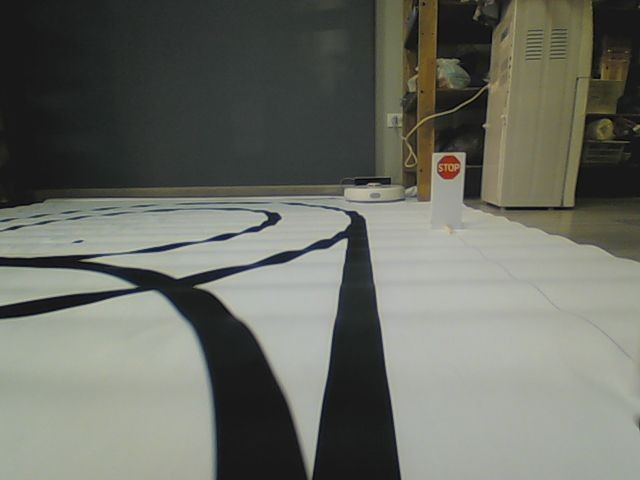Stop: (435, 154, 460, 181)
